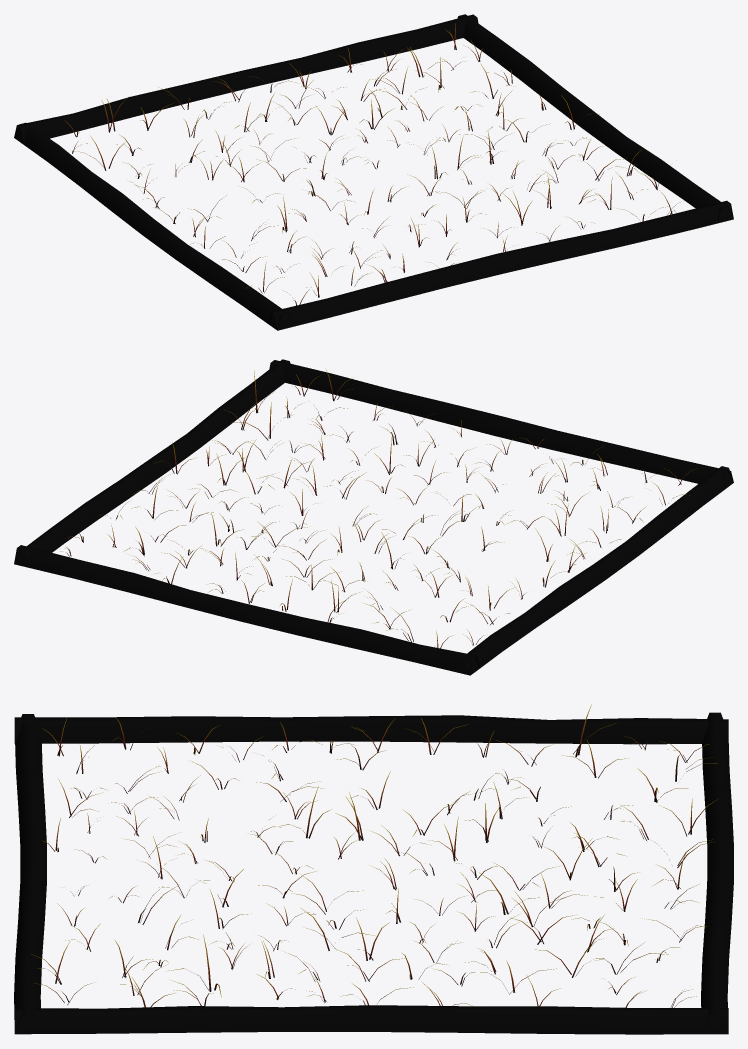
Rendered from patch_paddy_far.glb.
3 renders of one model, top to bottom at view 1: azimuth 30°, elevation 25°; view 2: azimuth 150°, elevation 25°; view 3: azimuth 270°, elevation 25°, orthographic. The views are drawn at different scales.
Visible parts, largest first — view 1: patch_paddy_far; view 2: patch_paddy_far; view 3: patch_paddy_far.
Part boxes in pixels (x1,y1,x2,y2): patch_paddy_far: [14, 14, 733, 330]; patch_paddy_far: [14, 359, 733, 675]; patch_paddy_far: [14, 704, 733, 1034].
Size of the model in its own units: 12.11 by 0.8758 by 12.11.
1 material, 1 textured.
